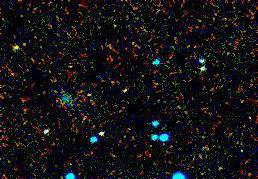star: (0, 40, 30, 70)
